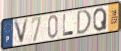0: (47, 15, 59, 40)
7: (31, 16, 43, 43)
D: (76, 8, 93, 36)
L: (63, 13, 75, 37)
Q: (93, 7, 108, 33)
V: (12, 16, 31, 46)
